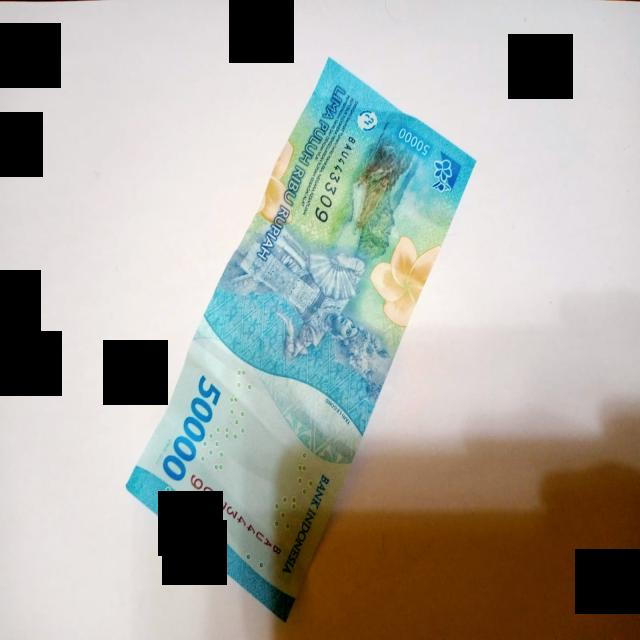lima puluh ribu rupiah: (128, 60, 475, 619)
